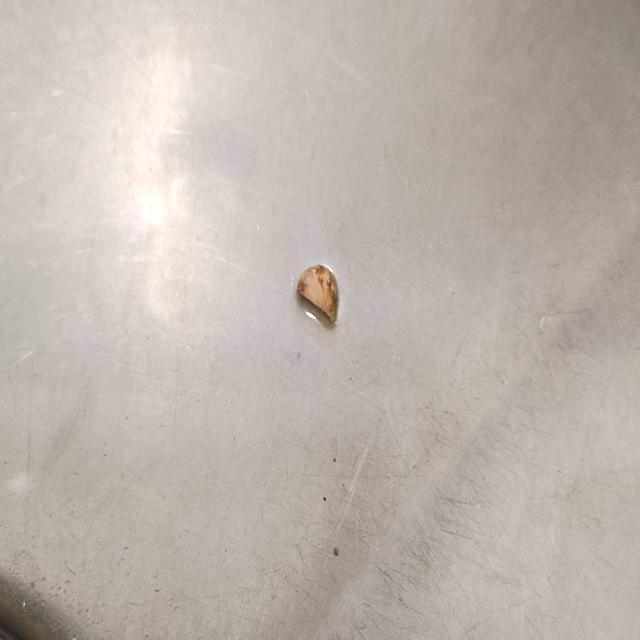Infectious: (298, 263, 340, 323)
Pathological: (2, 1, 639, 638)
